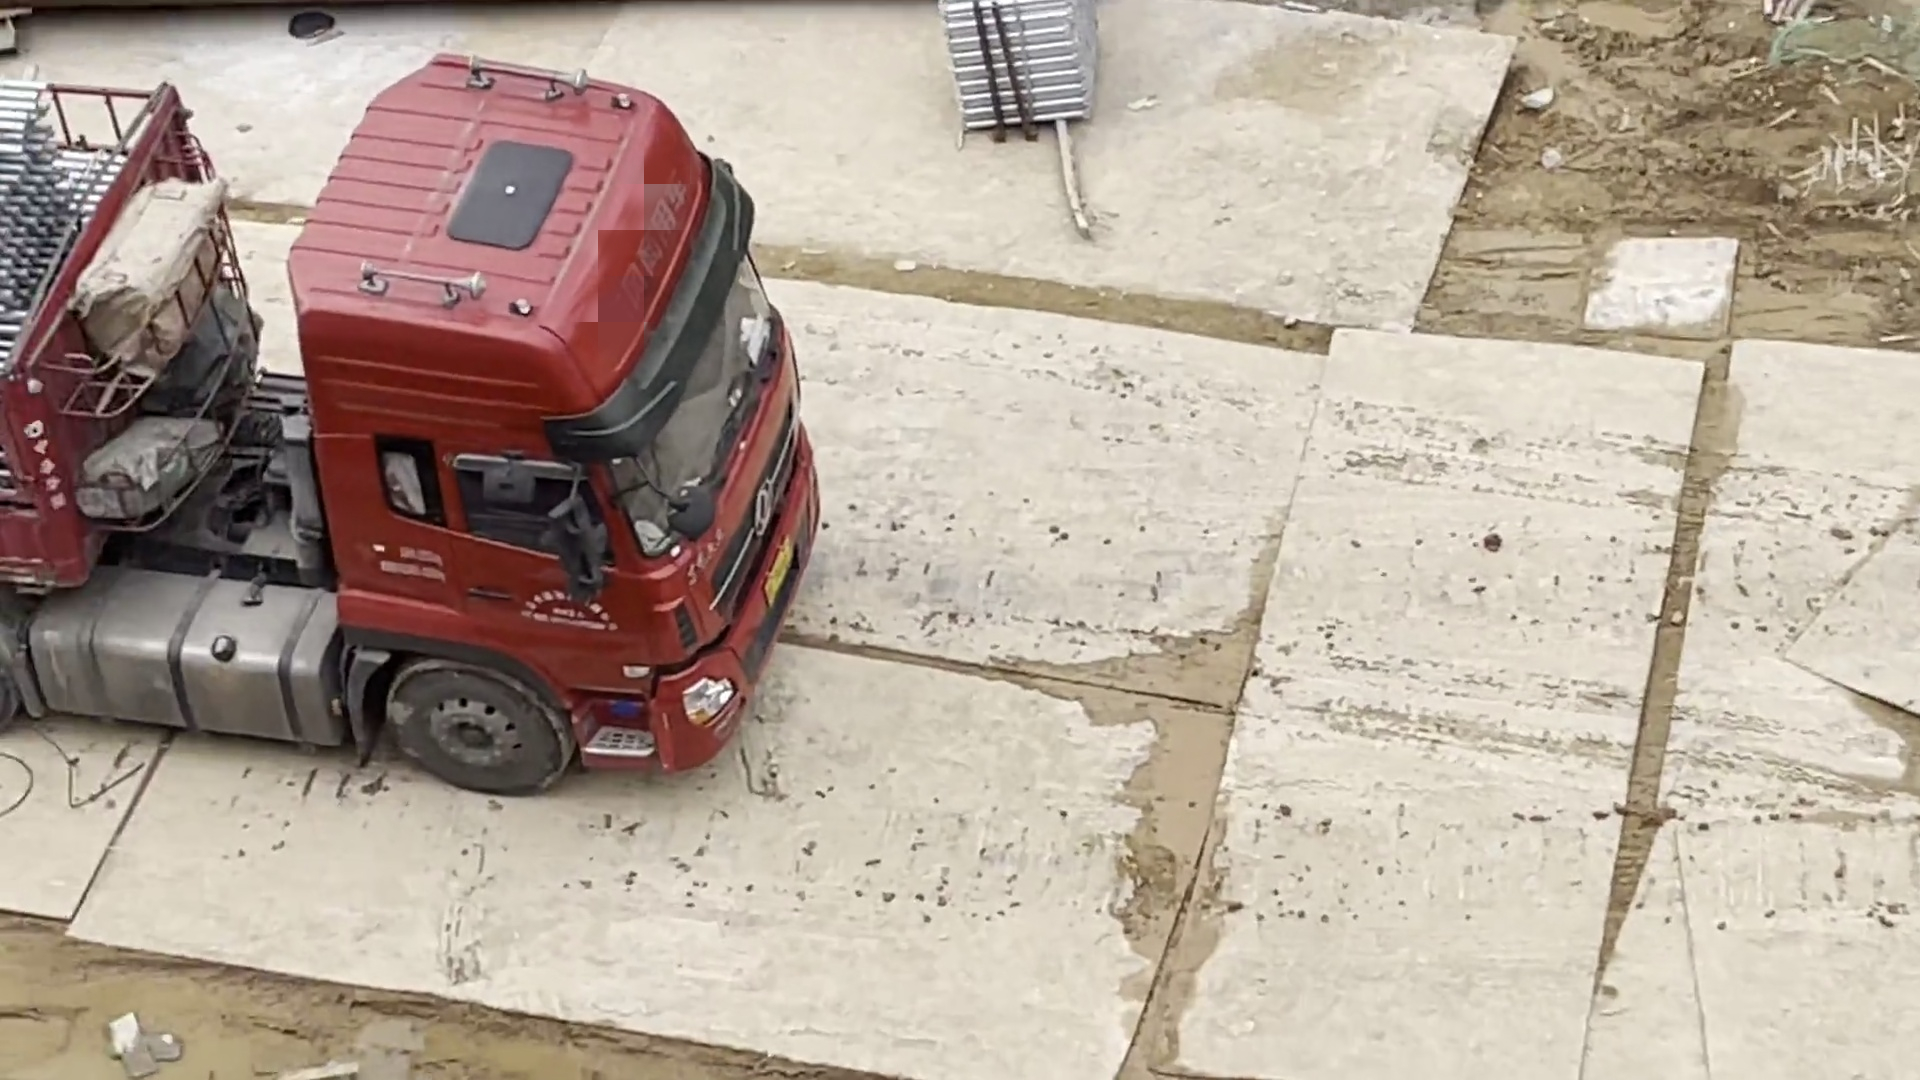scaffold: (1, 61, 119, 411), (926, 3, 1118, 141)
